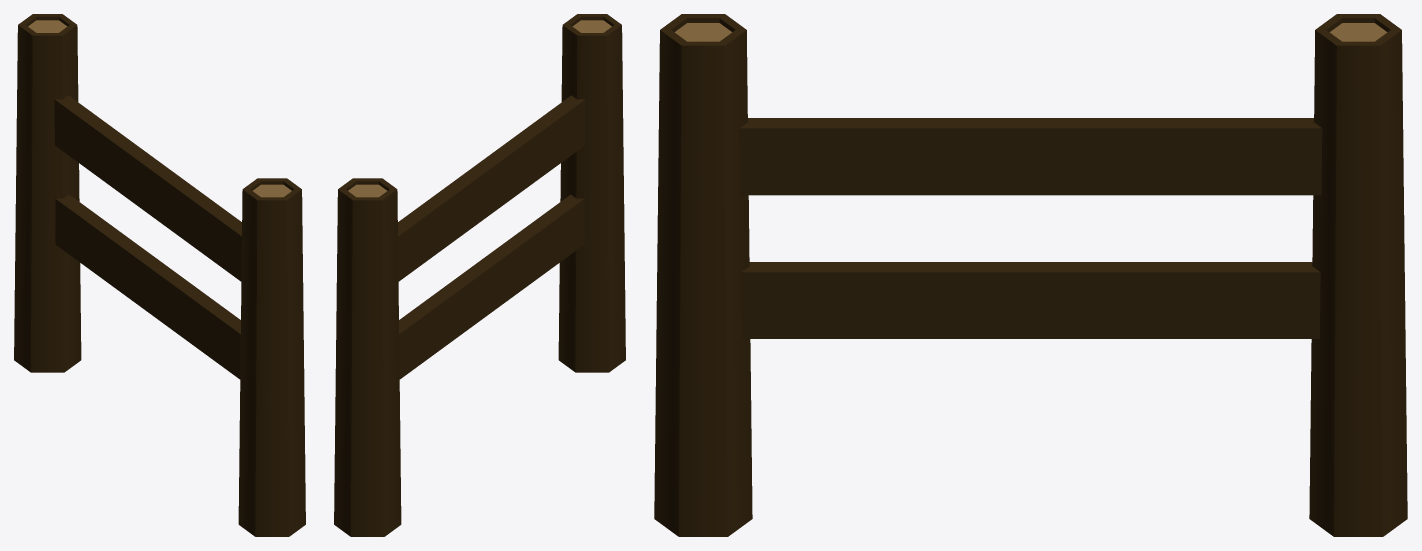
File: FarmFence.fbx
The picture shows the model from 3 angles, left to right: view 1: azimuth 30°, elevation 25°; view 2: azimuth 150°, elevation 25°; view 3: azimuth 270°, elevation 25°; orthographic projection. The views are drawn at different scales.
Parts seen in each view (by area): view 1: FarmFence; view 2: FarmFence; view 3: FarmFence.
Boxes of the visible parts, bbox=[...] form: FarmFence: bbox=[14, 14, 305, 536]; FarmFence: bbox=[334, 14, 625, 536]; FarmFence: bbox=[654, 14, 1407, 536].
Size of the model in its own units: 0.2072 by 1.31 by 1.83.
